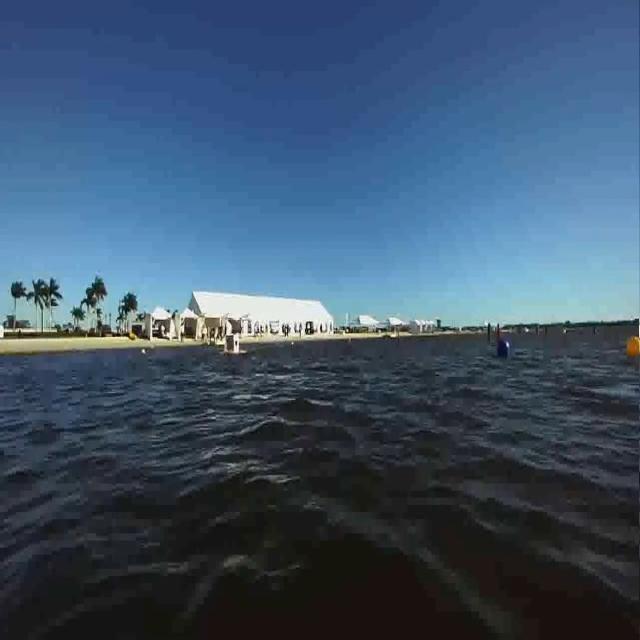blue-buoy: (495, 337, 510, 359)
yellow-buoy: (627, 336, 640, 360)
